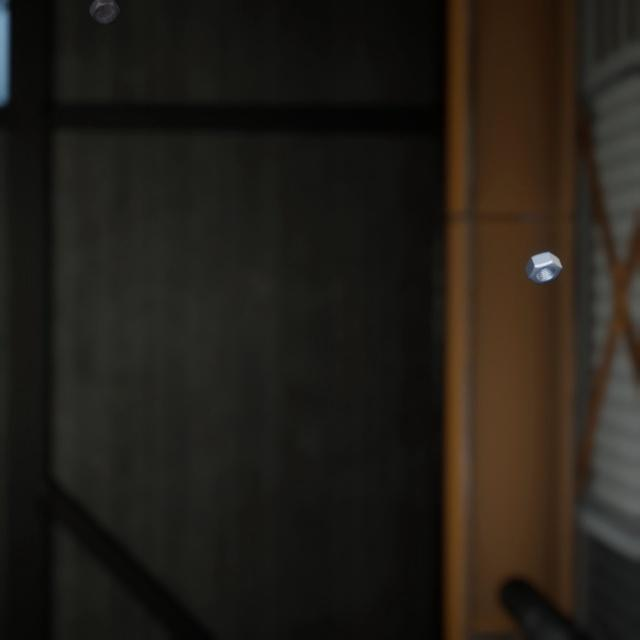bolt: (84, 0, 124, 22)
nut: (520, 230, 567, 272)
